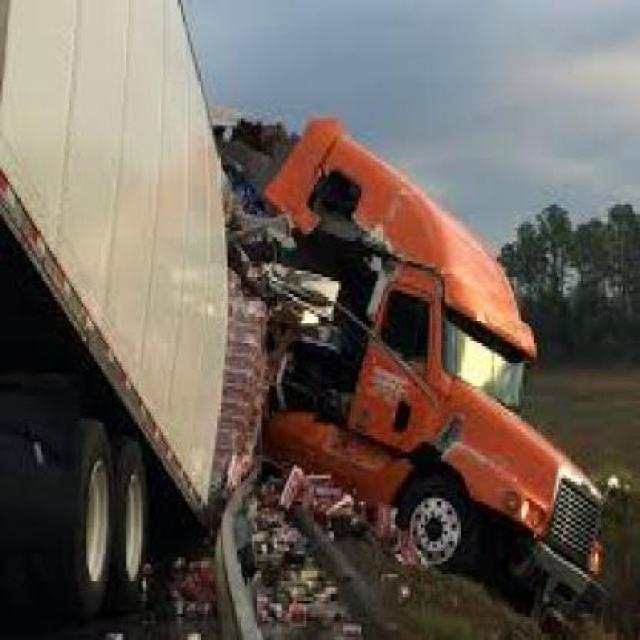accident: (23, 6, 612, 628)
